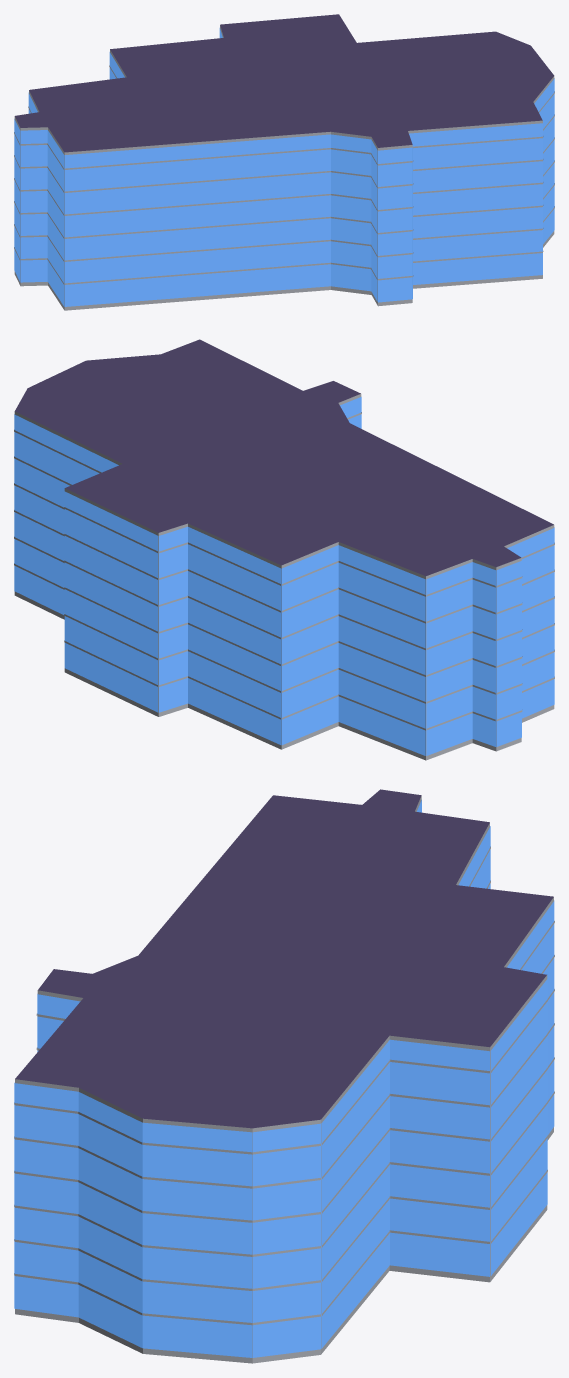
The model's file is core-health-sciences-building.glb.
3 views of the same model, one above another, from view 1: azimuth 30°, elevation 25°; view 2: azimuth 150°, elevation 25°; view 3: azimuth 270°, elevation 25° (orthographic). The views are drawn at different scales.
Visible parts, largest first — view 1: campus/core-health-sciences-building-0; view 2: campus/core-health-sciences-building-0; view 3: campus/core-health-sciences-building-0.
Part boxes in pixels (bbox=[...]): campus/core-health-sciences-building-0: bbox=[14, 14, 554, 310]; campus/core-health-sciences-building-0: bbox=[14, 339, 554, 760]; campus/core-health-sciences-building-0: bbox=[14, 789, 554, 1363].
Size of the model in its own units: 76.82 by 24.8 by 51.7.
